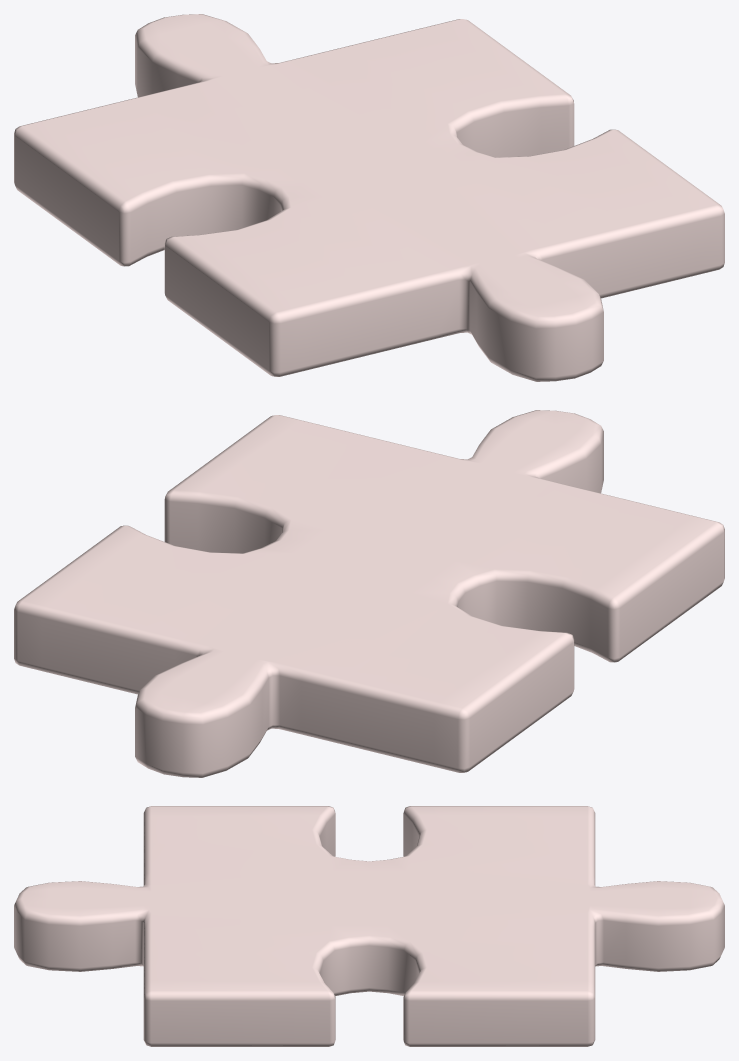
File: Store_9_Puzzle_3.glb
3 views of the same model, one above another, from view 1: azimuth 30°, elevation 25°; view 2: azimuth 150°, elevation 25°; view 3: azimuth 270°, elevation 25° (orthographic). The views are drawn at different scales.
Visible parts, largest first — view 1: Store_9_Puzzle_3; view 2: Store_9_Puzzle_3; view 3: Store_9_Puzzle_3.
Boxes of the visible parts, x1,y1,x2,y2 form: Store_9_Puzzle_3: [14, 14, 724, 381]; Store_9_Puzzle_3: [14, 410, 724, 777]; Store_9_Puzzle_3: [14, 806, 724, 1046].
Bounding box in the file's own units: 1.31 × 0.1778 × 2.06.
Materials: 1 (1 with a texture image).
